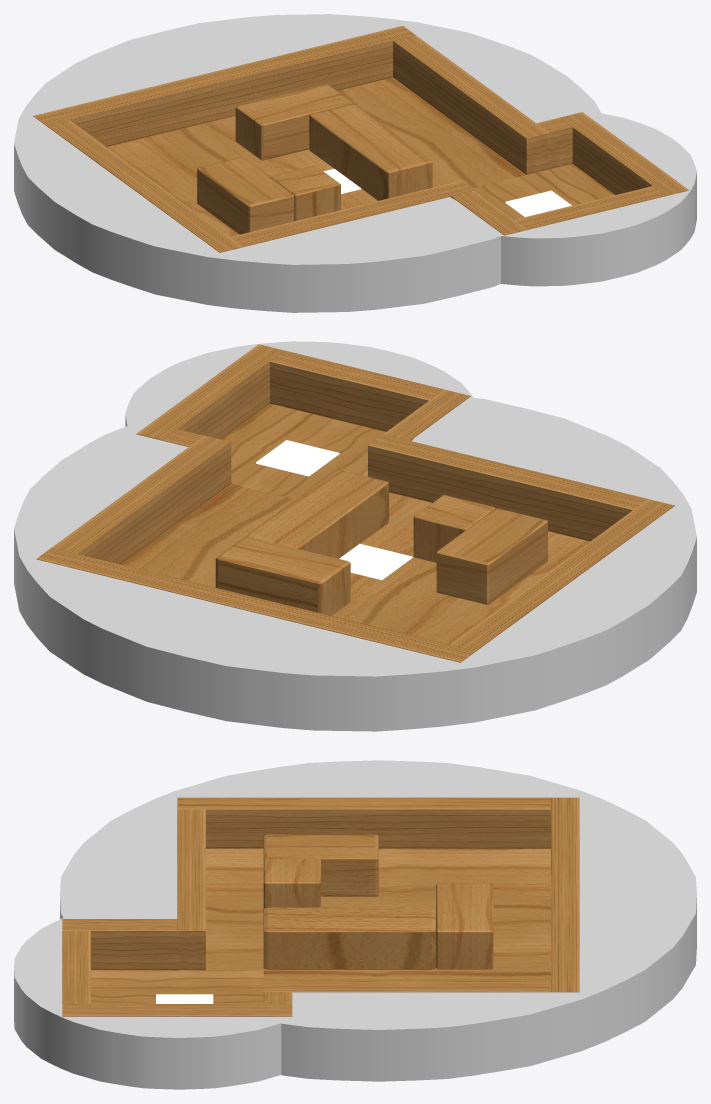
3 renders of one model, top to bottom at view 1: azimuth 30°, elevation 25°; view 2: azimuth 150°, elevation 25°; view 3: azimuth 270°, elevation 25°, orthographic. The views are drawn at different scales.
Visible parts, largest first — view 1: Wall_Out_line_cylinder, Floor_1, Wall_Out_line_cylinder001, Wall_Out_line__4, Wall_Out_line__5, Wall_In_line__2, Wall_In_line__3, Wall_In_line__1, Wall_Out_line__6, Wall_Out_line__2, Floor_2, Wall_Out_line__3 (+5 smaller); view 2: Wall_Out_line_cylinder, Floor_1, Wall_Out_line__3, Wall_Out_line__5, Wall_Out_line__7, Floor_2, Wall_Out_line_cylinder001, Wall_In_line__3, Wall_In_line__2, Wall_In_line__1, Wall_Out_line__4, Wall_Out_line__6 (+5 smaller); view 3: Wall_Out_line_cylinder, Floor_1, Wall_Out_line_cylinder001, Wall_Out_line__2, Wall_In_line__2, Wall_Out_line__4, Floor_2, Wall_In_line__3, Wall_In_line__1, Wall_Out_line__8, Wall_Out_line__3, Wall_Out_line__5 (+4 smaller).
Part boxes in pixels (left/top/right/bottom): Wall_Out_line_cylinder: left=14, top=14, right=600, bottom=312; Floor_1: left=107, top=77, right=525, bottom=236; Wall_Out_line_cylinder001: left=490, top=112, right=696, bottom=286; Wall_Out_line__4: left=33, top=25, right=415, bottom=146; Wall_Out_line__5: left=393, top=35, right=549, bottom=174; Wall_In_line__2: left=309, top=104, right=432, bottom=200; Wall_In_line__3: left=197, top=157, right=294, bottom=234; Wall_In_line__1: left=235, top=84, right=353, bottom=160; Wall_Out_line__6: left=560, top=112, right=689, bottom=195; Wall_Out_line__2: left=46, top=120, right=242, bottom=252; Floor_2: left=471, top=163, right=614, bottom=219; Wall_Out_line__3: left=230, top=181, right=473, bottom=247; Wall_Out_line_cylinder: left=14, top=397, right=696, bottom=731; Floor_1: left=121, top=483, right=589, bottom=644; Wall_Out_line__3: left=368, top=434, right=647, bottom=541; Wall_Out_line__5: left=52, top=435, right=231, bottom=564; Wall_Out_line__7: left=270, top=350, right=443, bottom=431; Floor_2: left=221, top=403, right=385, bottom=499; Wall_Out_line_cylinder001: left=125, top=341, right=475, bottom=431; Wall_In_line__3: left=436, top=508, right=547, bottom=604; Wall_In_line__2: left=247, top=469, right=388, bottom=558; Wall_In_line__1: left=215, top=536, right=350, bottom=615; Wall_Out_line__4: left=36, top=547, right=475, bottom=662; Wall_Out_line__6: left=136, top=344, right=284, bottom=440; Wall_Out_line_cylinder: left=60, top=760, right=696, bottom=1081; Floor_1: left=206, top=848, right=550, bottom=979; Wall_Out_line_cylinder001: left=14, top=914, right=286, bottom=1089; Wall_Out_line__2: left=177, top=797, right=550, bottom=848; Wall_In_line__2: left=263, top=907, right=435, bottom=969; Wall_Out_line__4: left=551, top=797, right=579, bottom=992; Floor_2: left=91, top=970, right=263, bottom=1003; Wall_In_line__3: left=263, top=834, right=378, bottom=896; Wall_In_line__1: left=436, top=883, right=493, bottom=969; Wall_Out_line__8: left=62, top=919, right=177, bottom=970; Wall_Out_line__3: left=177, top=809, right=205, bottom=970; Wall_Out_line__5: left=263, top=979, right=550, bottom=992.
Bounding box in the file's own units: 4573 × 400 × 4753.
Materials: 4 (2 with a texture image).
